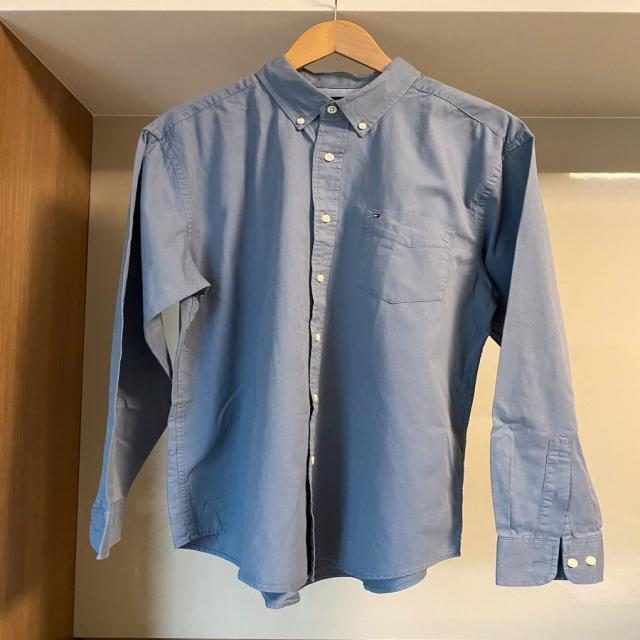long sleeve shirt: (84, 52, 606, 611)
